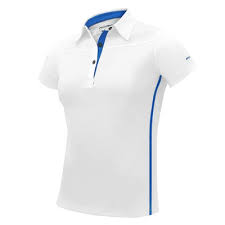C_polo shirt: (32, 11, 191, 222)
